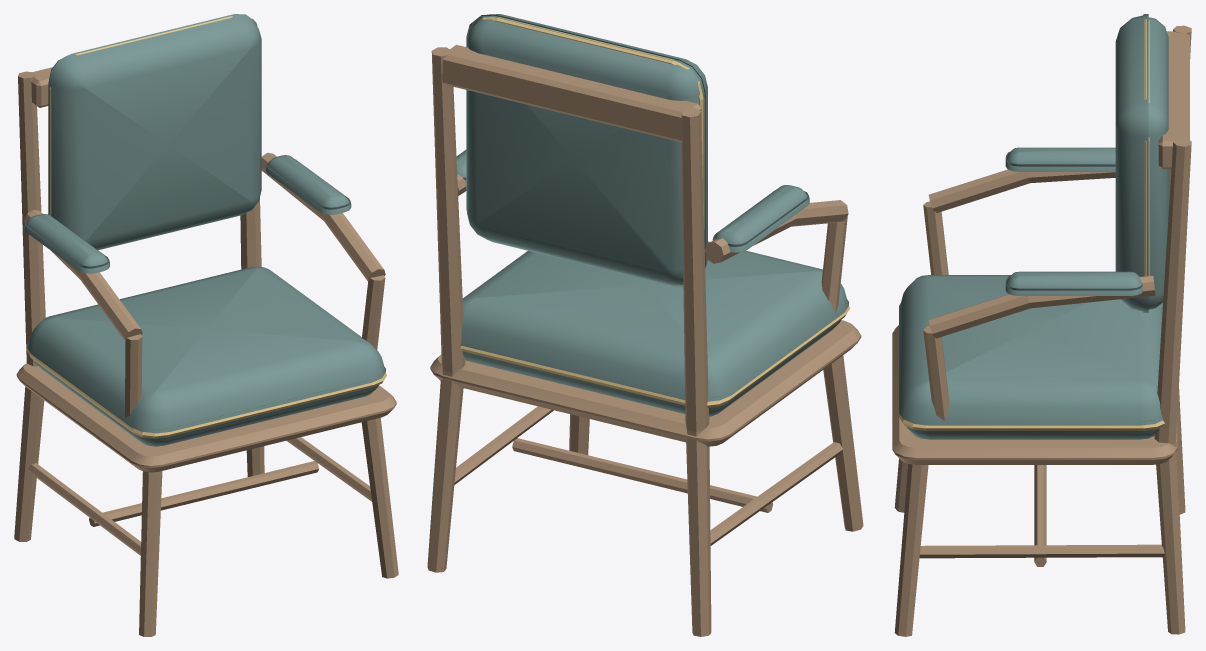
File: armchair-dining.glb
3 renders of one model, left to right at view 1: azimuth 30°, elevation 25°; view 2: azimuth 150°, elevation 25°; view 3: azimuth 270°, elevation 25°, orthographic. The views are drawn at different scales.
Visible parts, largest first — view 1: carver-armchair; view 2: carver-armchair; view 3: carver-armchair.
Part boxes in pixels (bbox=[...]): carver-armchair: bbox=[14, 14, 398, 636]; carver-armchair: bbox=[427, 14, 863, 636]; carver-armchair: bbox=[892, 14, 1191, 636].
Bounding box in the file's own units: 0.5785 × 0.995 × 0.5254.
